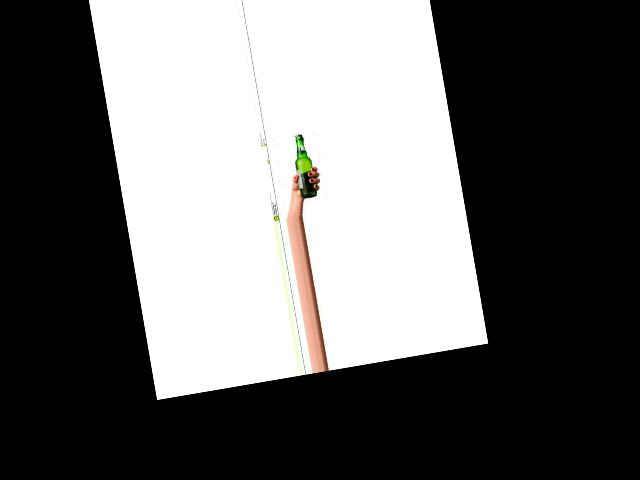beer: (289, 132, 317, 199)
